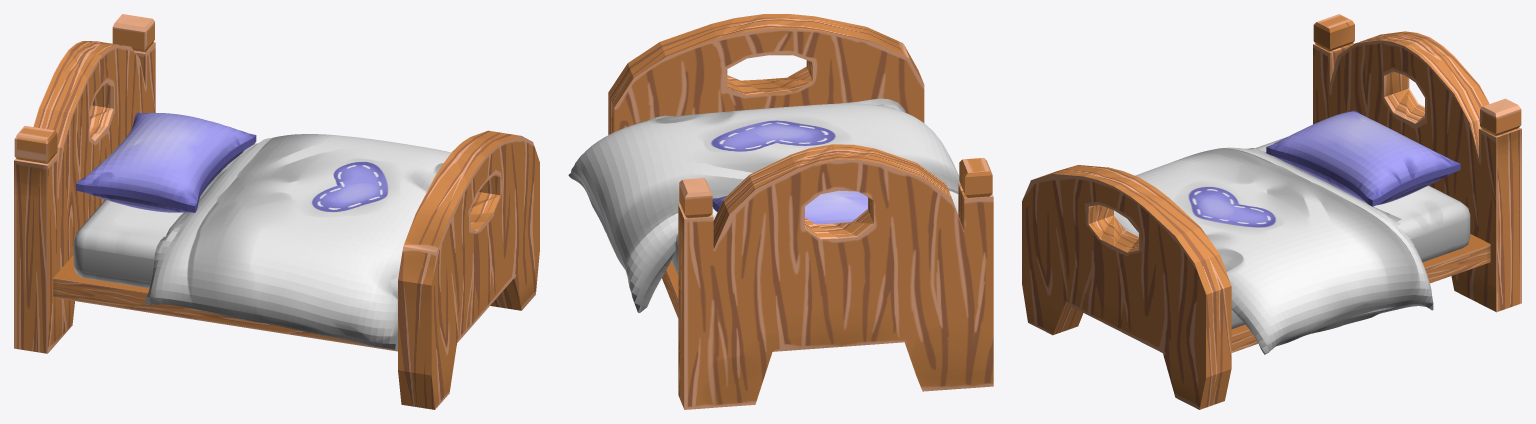
The model's file is Test Bed Stuart.FBX.
The picture shows the model from 3 angles, left to right: view 1: azimuth 30°, elevation 25°; view 2: azimuth 150°, elevation 25°; view 3: azimuth 270°, elevation 25°; orthographic projection. The views are drawn at different scales.
Visible parts, largest first — view 1: Selimut, KayuBawah, KayuAtas, Bantal, Kasur, KayuTengah; view 2: KayuAtas, Selimut, KayuBawah, Bantal, KayuTengah; view 3: KayuBawah, Selimut, KayuAtas, Bantal, Kasur, KayuTengah.
Part boxes in pixels (x1,y1,x2,y2): Selimut: [145, 134, 451, 350]; KayuBawah: [398, 130, 539, 409]; KayuAtas: [14, 14, 155, 353]; Bantal: [76, 112, 256, 212]; Kasur: [73, 143, 398, 291]; KayuTengah: [53, 255, 397, 351]; KayuAtas: [678, 144, 993, 409]; Selimut: [568, 98, 960, 312]; KayuBawah: [608, 14, 924, 134]; Bantal: [712, 190, 867, 223]; KayuTengah: [662, 260, 678, 317]; KayuBawah: [1022, 165, 1231, 409]; Selimut: [1114, 147, 1433, 354]; KayuAtas: [1313, 14, 1521, 312]; Bantal: [1266, 110, 1460, 206]; Kasur: [1231, 137, 1470, 328]; KayuTengah: [1231, 234, 1490, 352].
Bounding box in the file's own units: 353 × 359 × 174.
6 materials, 6 textured.
